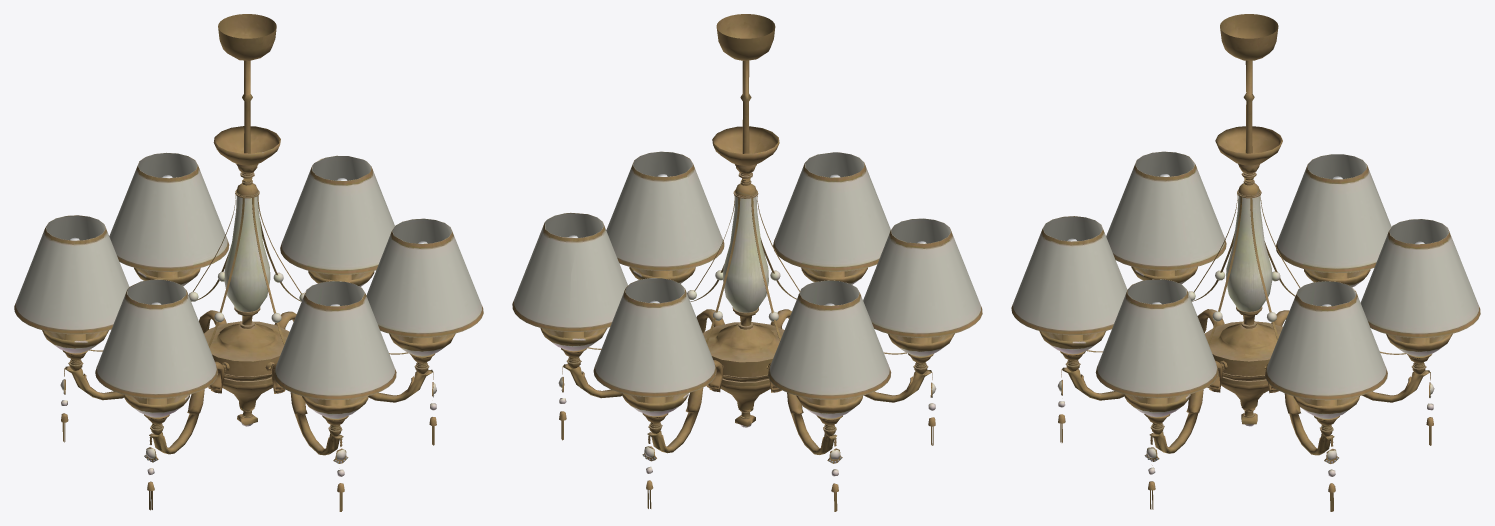
File: Chandelier_01.glb
3 views of the same model, side by side, from view 1: azimuth 30°, elevation 25°; view 2: azimuth 150°, elevation 25°; view 3: azimuth 270°, elevation 25° (orthographic).
Parts seen in each view (by area): view 1: Chandelier_01; view 2: Chandelier_01; view 3: Chandelier_01.
Boxes of the visible parts, x1,y1,x2,y2 form: Chandelier_01: [14, 14, 483, 511]; Chandelier_01: [512, 14, 982, 511]; Chandelier_01: [1011, 14, 1480, 511].
Bounding box in the file's own units: 0.7465 × 0.7982 × 0.8155.
2 materials, 1 textured.
